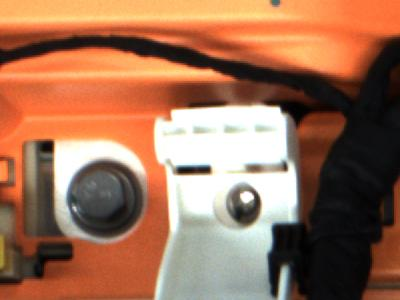nut_b: (61, 155, 149, 243)
